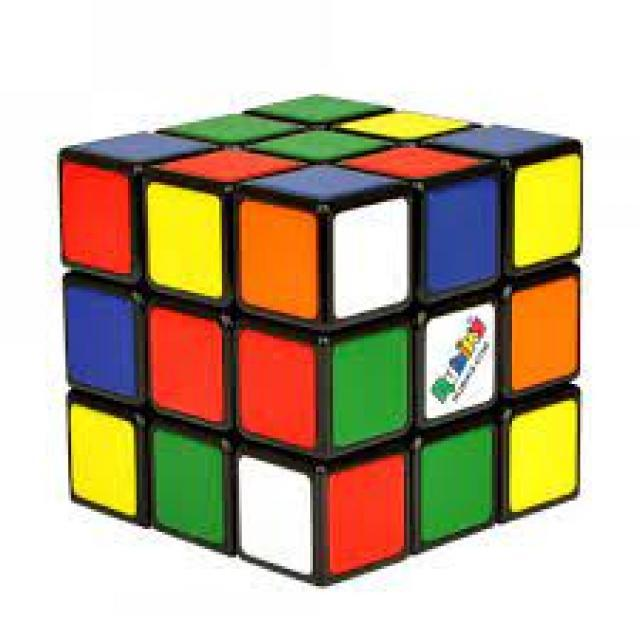Rub: (47, 84, 580, 586)
